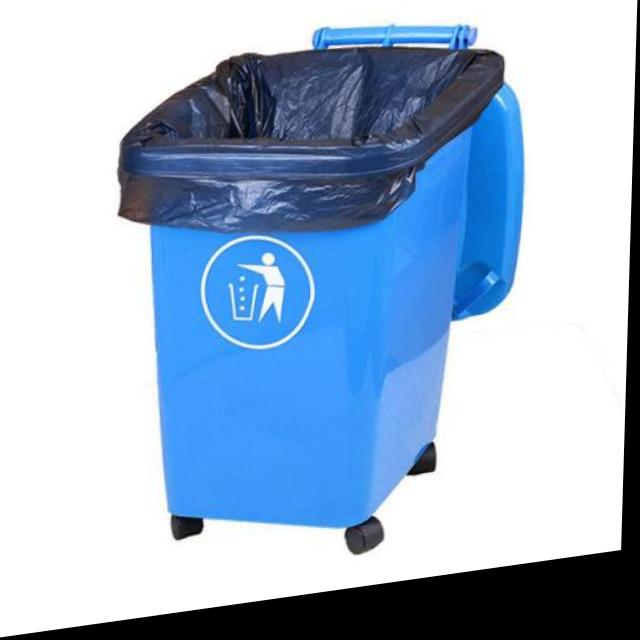garbage_bin: (107, 14, 528, 566)
